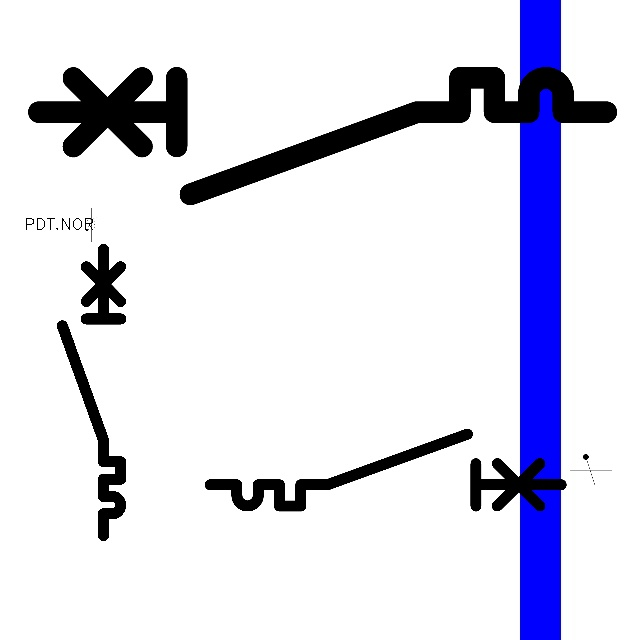interruptor_termomagnetico: (24, 63, 621, 209), (201, 425, 570, 515), (55, 242, 128, 543)
